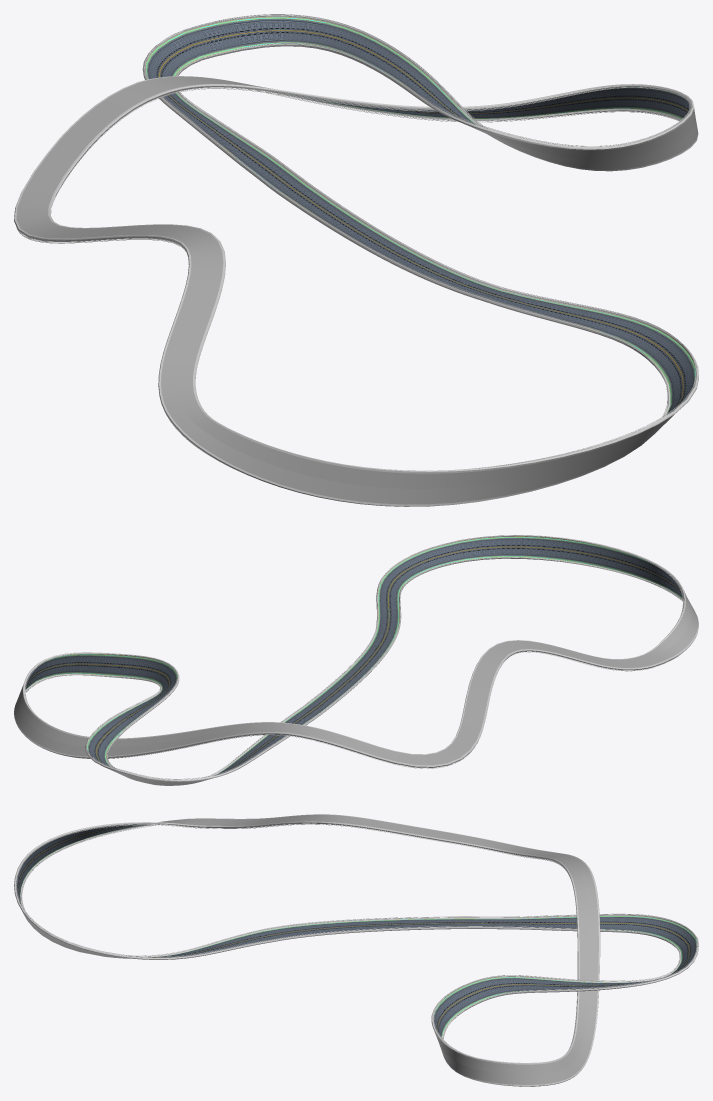
Rendered from Track_1_2.fbx.
The picture shows the model from 3 angles, top to bottom: view 1: azimuth 30°, elevation 25°; view 2: azimuth 150°, elevation 25°; view 3: azimuth 270°, elevation 25°; orthographic projection. The views are drawn at different scales.
Visible parts, largest first — view 1: Track_1_1; view 2: Track_1_1; view 3: Track_1_1.
Boxes of the visible parts, box(x1,y1,x2,y2) form: Track_1_1: box(14, 14, 698, 506); Track_1_1: box(14, 535, 698, 785); Track_1_1: box(14, 814, 698, 1086).
Bounding box in the file's own units: 325 × 59.32 × 404.
